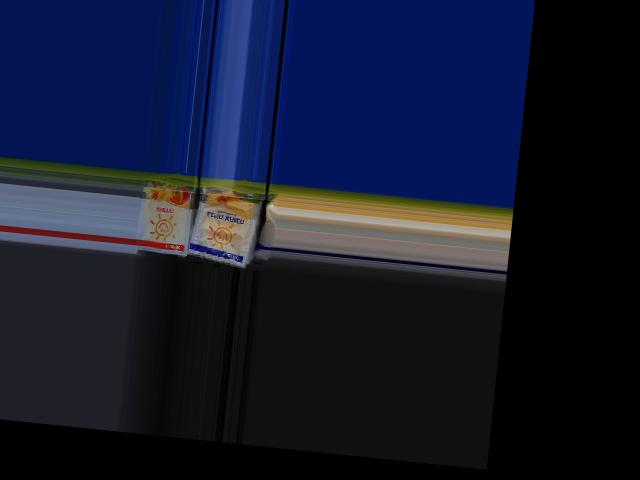cheese: (133, 170, 196, 260)
